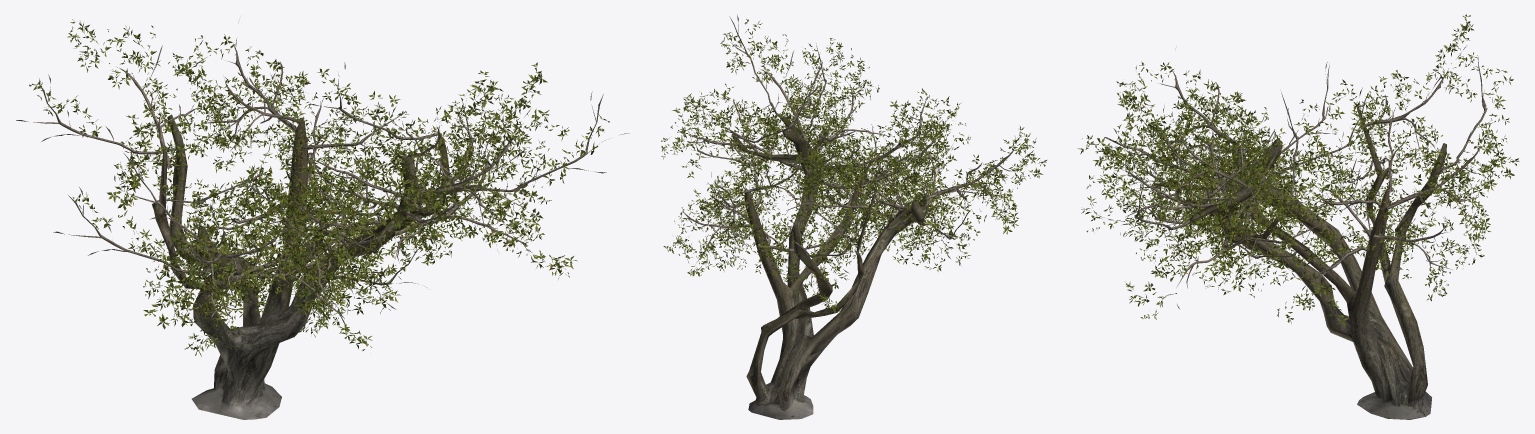
The model's file is island_tree_02.glb.
3 views of the same model, side by side, from view 1: azimuth 30°, elevation 25°; view 2: azimuth 150°, elevation 25°; view 3: azimuth 270°, elevation 25° (orthographic). The views are drawn at different scales.
Visible parts, largest first — view 1: island_tree_02_LOD0; view 2: island_tree_02_LOD0; view 3: island_tree_02_LOD0.
Boxes of the visible parts, x1,y1,x2,y2 form: island_tree_02_LOD0: (16, 19, 629, 419); island_tree_02_LOD0: (661, 14, 1046, 419); island_tree_02_LOD0: (1077, 14, 1519, 419).
Size of the model in its own units: 4.21 by 3.4 by 4.07.
Materials: 3 (3 with a texture image).
